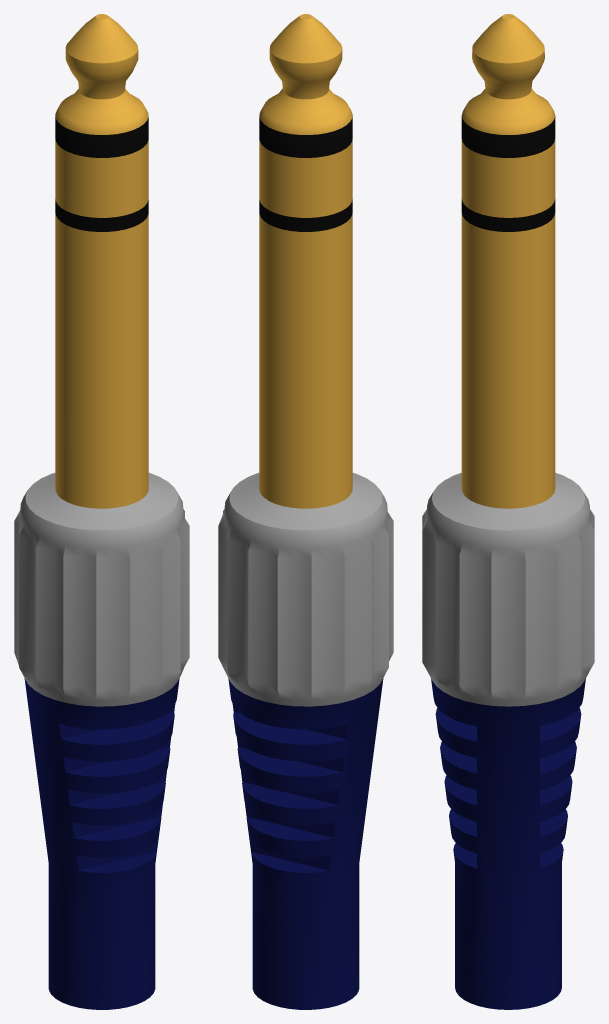
File: Klinki.fbx
3 views of the same model, side by side, from view 1: azimuth 30°, elevation 25°; view 2: azimuth 150°, elevation 25°; view 3: azimuth 270°, elevation 25° (orthographic).
Visible parts, largest first — view 1: Klinke; view 2: Klinke; view 3: Klinke.
Boxes of the visible parts, x1,y1,x2,y2 form: Klinke: (14, 14, 189, 1009); Klinke: (218, 14, 393, 1009); Klinke: (422, 14, 594, 1009).
Bounding box in the file's own units: 118 × 733 × 118.
